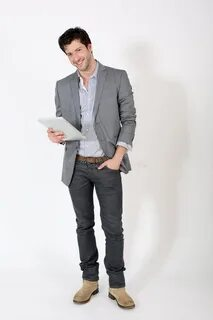awake: (47, 26, 137, 310)
